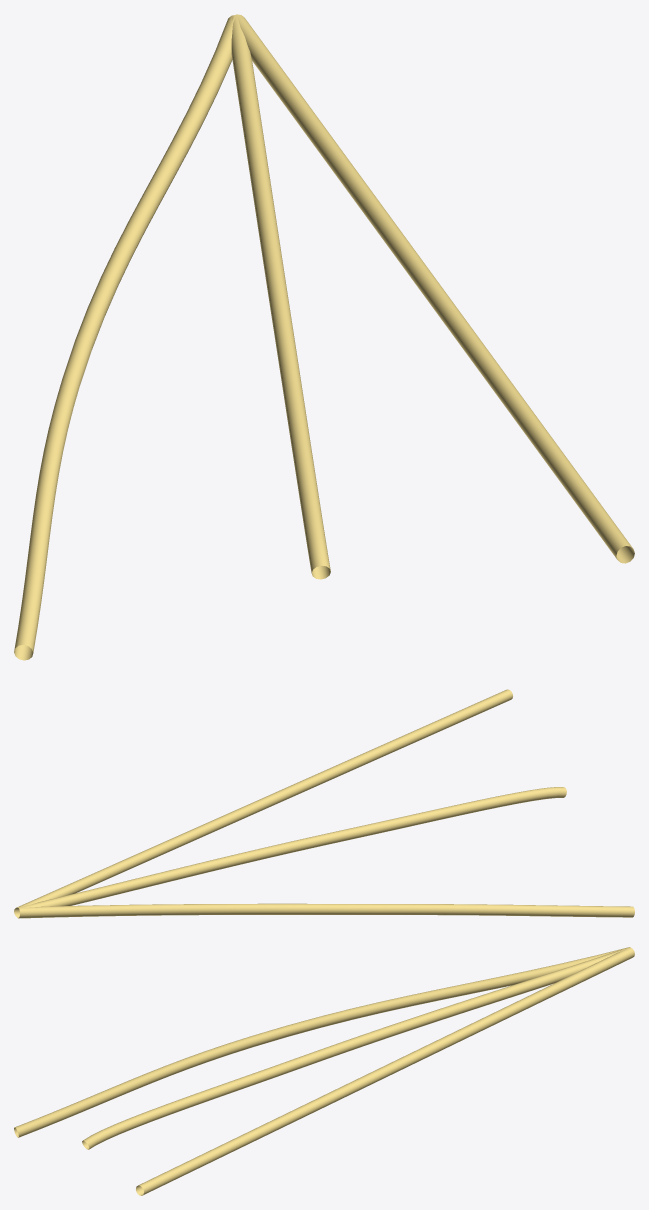
3 renders of one model, top to bottom at view 1: azimuth 30°, elevation 25°; view 2: azimuth 150°, elevation 25°; view 3: azimuth 330°, elevation 25°, orthographic. The views are drawn at different scales.
Parts seen in each view (by area): view 1: ZA_f83ec8f1f0d68a46; view 2: ZA_f83ec8f1f0d68a46; view 3: ZA_f83ec8f1f0d68a46.
Part boxes in pixels (bbox=[...]): ZA_f83ec8f1f0d68a46: bbox=[14, 14, 634, 660]; ZA_f83ec8f1f0d68a46: bbox=[14, 689, 634, 918]; ZA_f83ec8f1f0d68a46: bbox=[14, 947, 634, 1195].
Size of the model in its own units: 0.0389 by 0.00984 by 0.0643.
